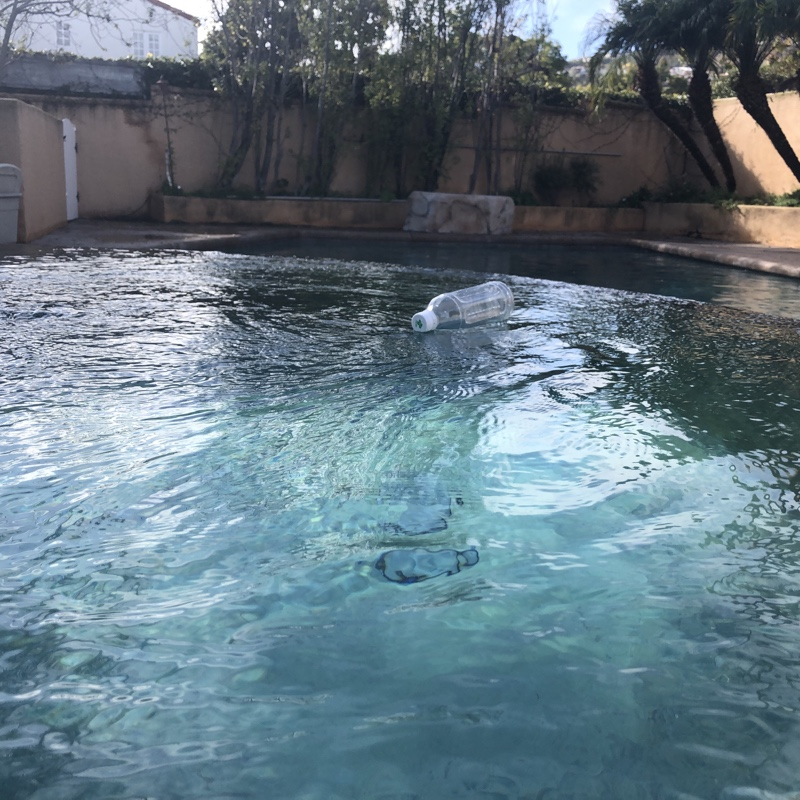Plastic Bottle: (406, 277, 519, 338)
